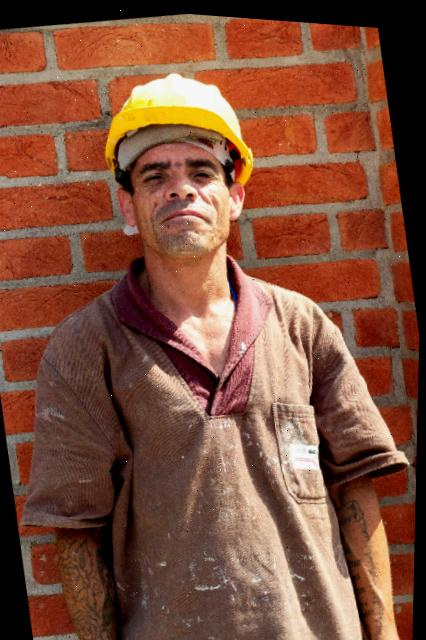helmet: (75, 46, 270, 185)
